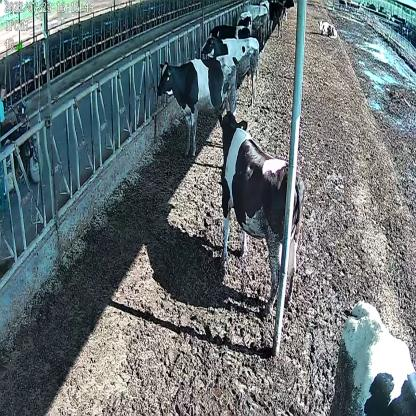cow: (217, 111, 304, 314), (158, 56, 237, 158), (200, 33, 260, 111), (319, 19, 338, 41)
